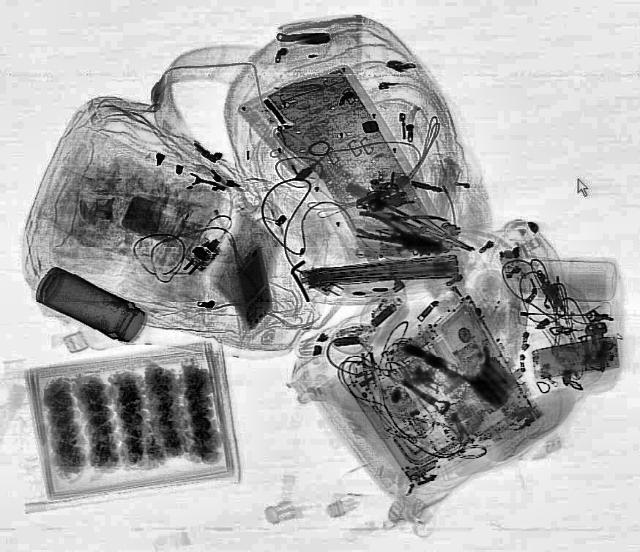Pliers: (348, 208, 434, 254), (382, 208, 446, 238)
